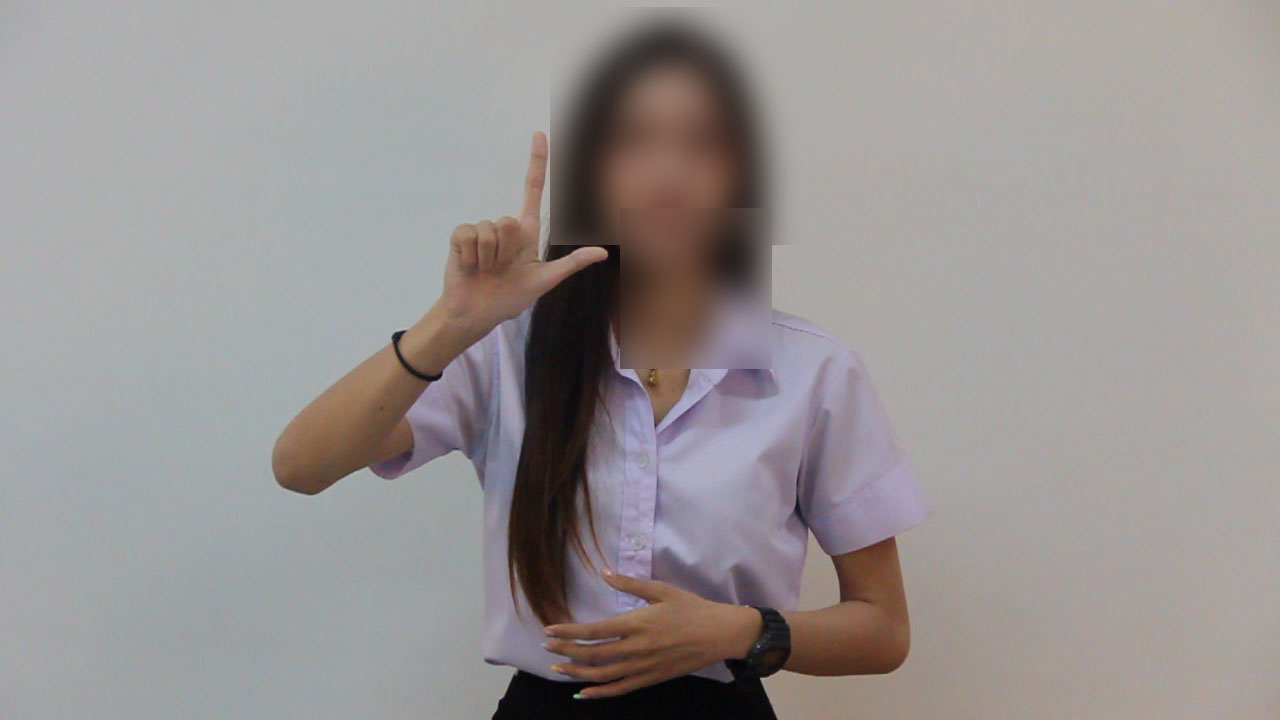lor: (434, 125, 617, 334)
